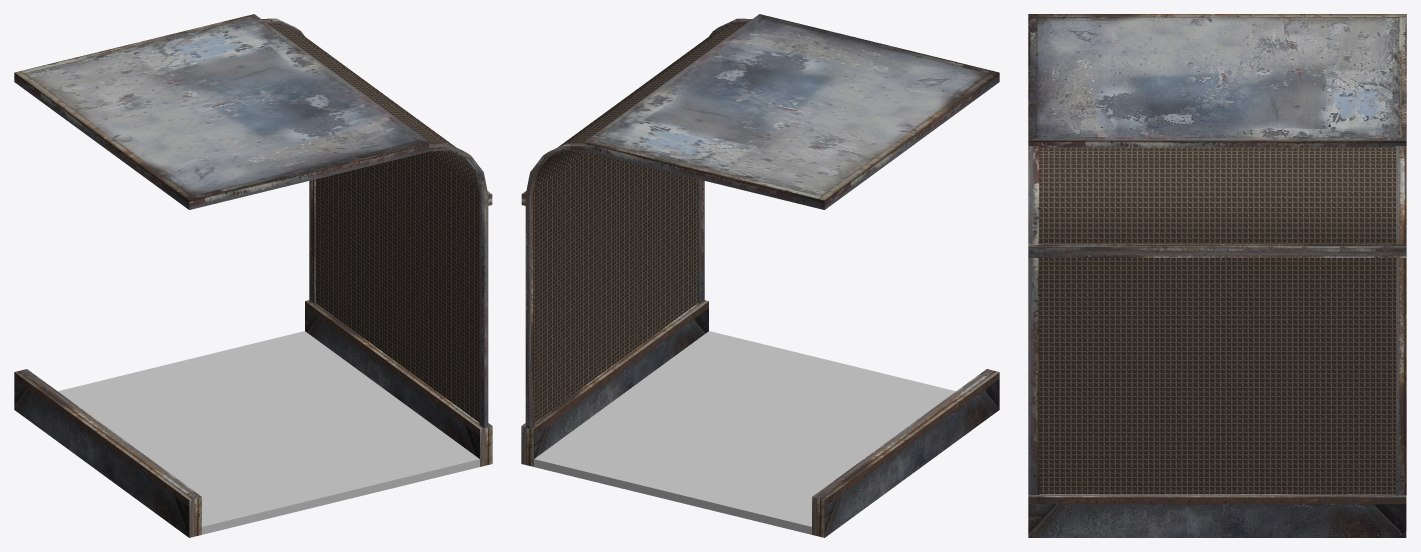
The model's file is walkbridge.DAE.
3 views of the same model, side by side, from view 1: azimuth 30°, elevation 25°; view 2: azimuth 150°, elevation 25°; view 3: azimuth 270°, elevation 25° (orthographic). The views are drawn at different scales.
Visible parts, largest first — view 1: Object006, Box003, Plane005; view 2: Object006, Box003, Plane005; view 3: Plane005, Object006.
Boxes of the visible parts, <box> form: Object006: <box>14,14,492,537</box>; Box003: <box>58,331,479,534</box>; Plane005: <box>268,24,479,422</box>; Object006: <box>521,14,999,537</box>; Box003: <box>534,331,955,534</box>; Plane005: <box>534,24,745,422</box>; Plane005: <box>1028,147,1395,493</box>; Object006: <box>1028,14,1406,537</box>.
Size of the model in its own units: 4 by 4.25 by 4.
